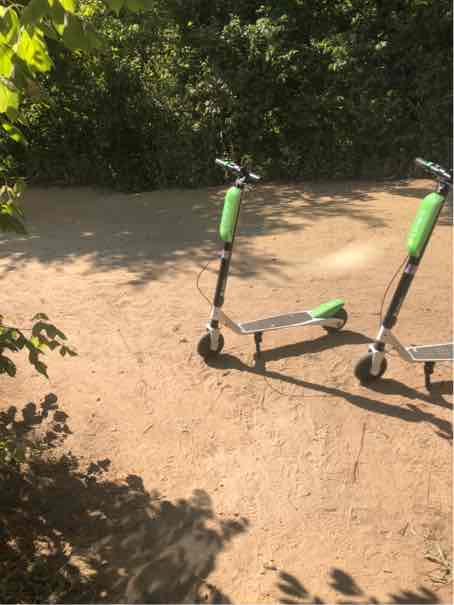scooter: (191, 143, 355, 369)
